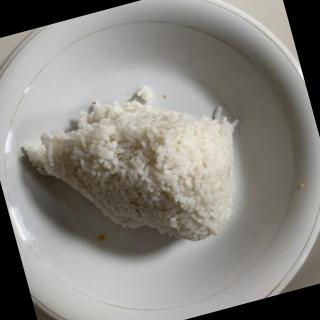Nasi: (17, 76, 258, 280)
